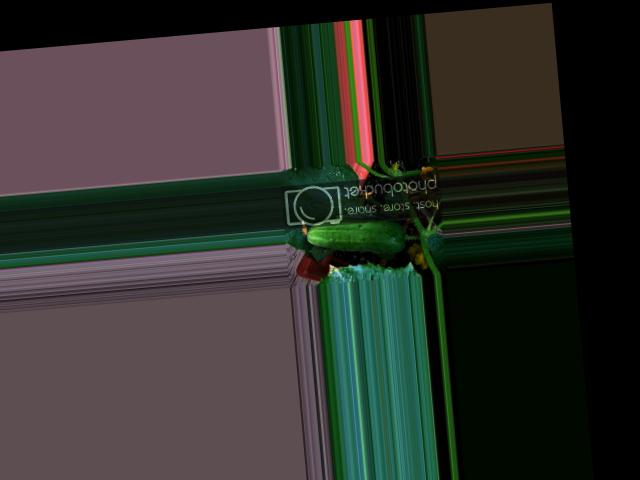cucumber: (304, 212, 405, 260)
